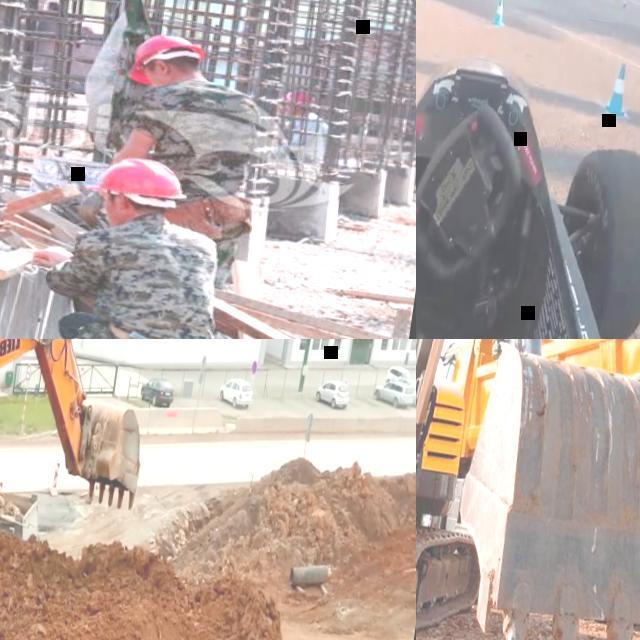helmet: (82, 150, 188, 212), (124, 31, 208, 98), (278, 85, 322, 110)
